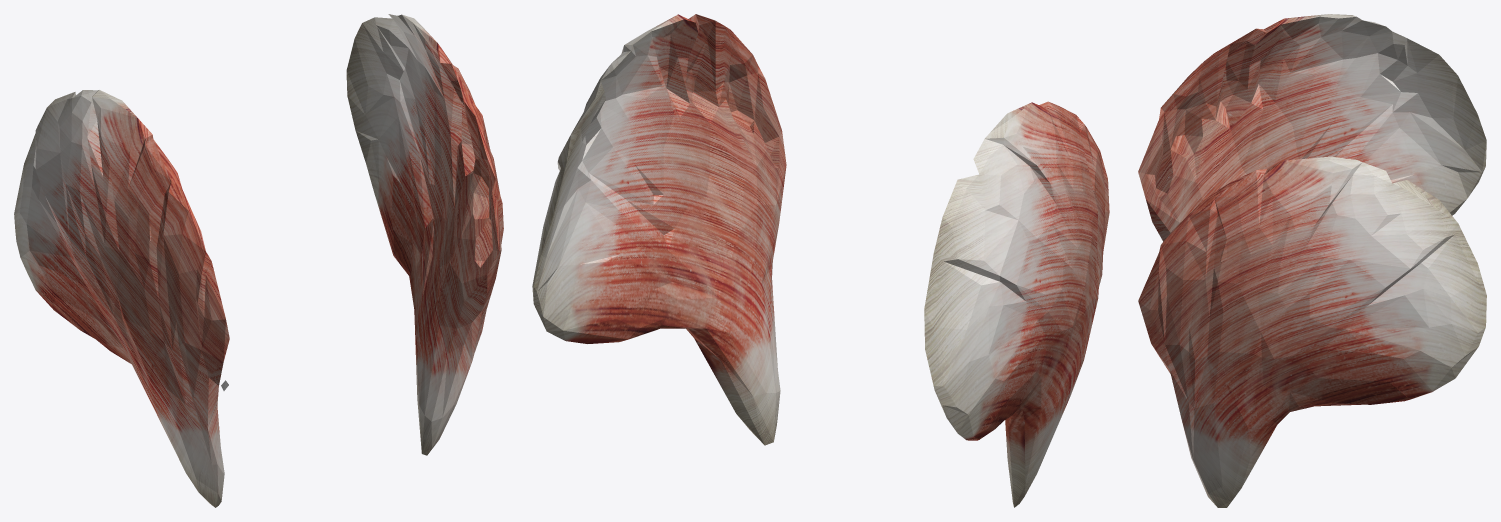
The model's file is Temporalis.obj.
3 renders of one model, left to right at view 1: azimuth 30°, elevation 25°; view 2: azimuth 150°, elevation 25°; view 3: azimuth 270°, elevation 25°, orthographic. The views are drawn at different scales.
Visible parts, largest first — view 1: Musculos_Cabeza_1:Temporalis:Temporalis; view 2: Musculos_Cabeza_1:Temporalis:Temporalis; view 3: Musculos_Cabeza_1:Temporalis:Temporalis.
Part boxes in pixels (x1,y1,x2,y2): Musculos_Cabeza_1:Temporalis:Temporalis: (14, 14, 503, 507); Musculos_Cabeza_1:Temporalis:Temporalis: (532, 14, 1109, 507); Musculos_Cabeza_1:Temporalis:Temporalis: (1138, 14, 1486, 507).
Bounding box in the file's own units: 0.6386 × 0.612 × 0.5184.
1 material, 1 textured.
